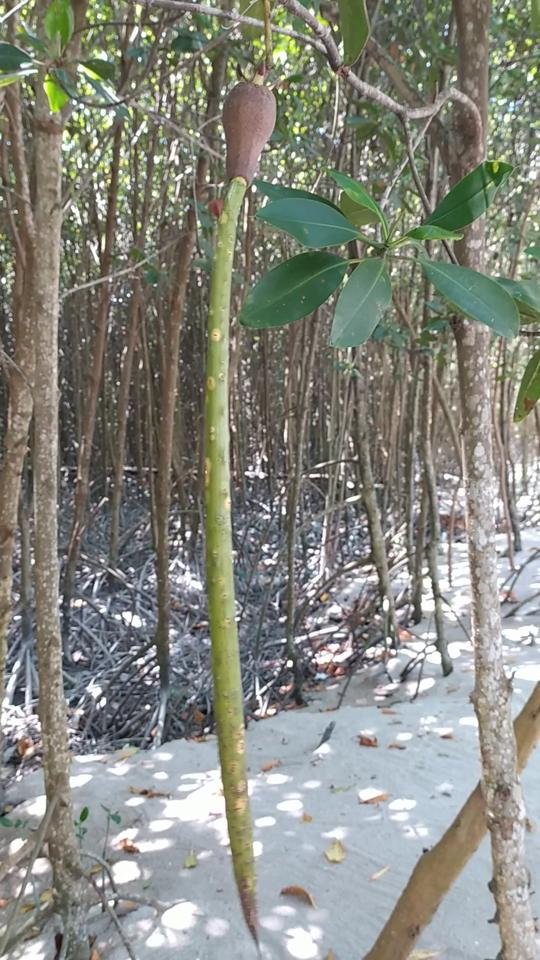setengah matang: (197, 56, 296, 958)
